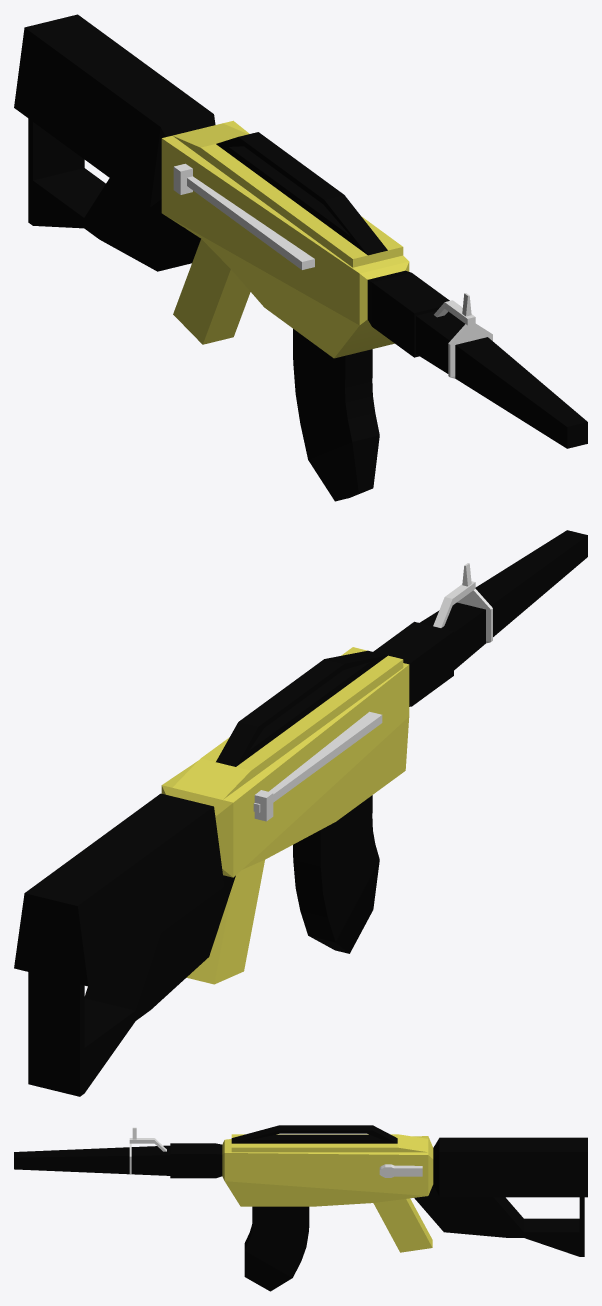
The model's file is DesertM.fbx.
3 views of the same model, one above another, from view 1: azimuth 30°, elevation 25°; view 2: azimuth 150°, elevation 25°; view 3: azimuth 270°, elevation 25° (orthographic). The views are drawn at different scales.
Visible parts, largest first — view 1: Cube, Cube.008, Cube.006; view 2: Cube, Cube.008, Cube.006; view 3: Cube, Cube.007, Cube.006.
Boxes of the visible parts, <box> form: Cube: <box>14,14,587,501</box>; Cube.008: <box>187,176,314,269</box>; Cube.006: <box>434,300,492,378</box>; Cube: <box>14,530,587,1096</box>; Cube.008: <box>253,711,382,812</box>; Cube.006: <box>433,581,492,643</box>; Cube: <box>14,1125,587,1291</box>; Cube.007: <box>379,1164,422,1177</box>; Cube.006: <box>129,1138,166,1174</box>.
Size of the model in its own units: 81.11 by 252 by 810.
